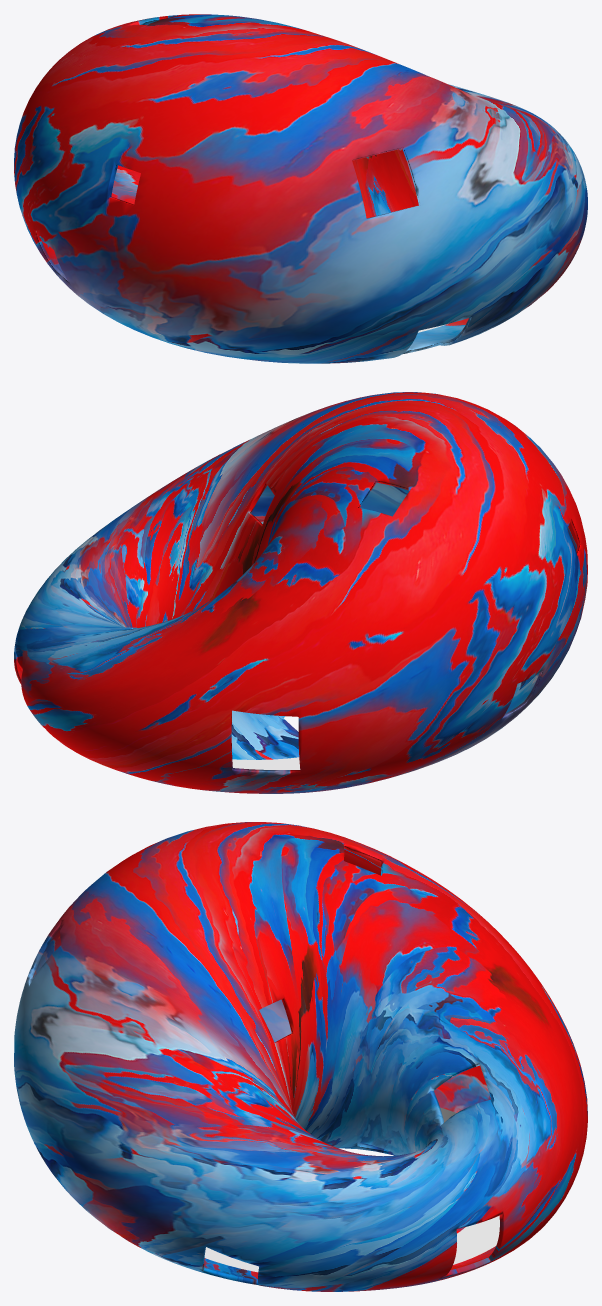
The picture shows the model from 3 angles, top to bottom: view 1: azimuth 30°, elevation 25°; view 2: azimuth 150°, elevation 25°; view 3: azimuth 270°, elevation 25°; orthographic projection. The views are drawn at different scales.
Parts seen in each view (by area): view 1: Solids; view 2: Solids, Ramps_2; view 3: Solids, Ramps_2.
Part boxes in pixels (left/top/right/bottom): Solids: left=14, top=14, right=587, bottom=363; Solids: left=14, top=392, right=587, bottom=793; Ramps_2: left=232, top=757, right=300, bottom=769; Solids: left=14, top=822, right=587, bottom=1291; Ramps_2: left=204, top=1215, right=499, bottom=1272.
Size of the model in its own units: 48.52 by 27.66 by 47.33.
Materials: 2 (2 with a texture image).
